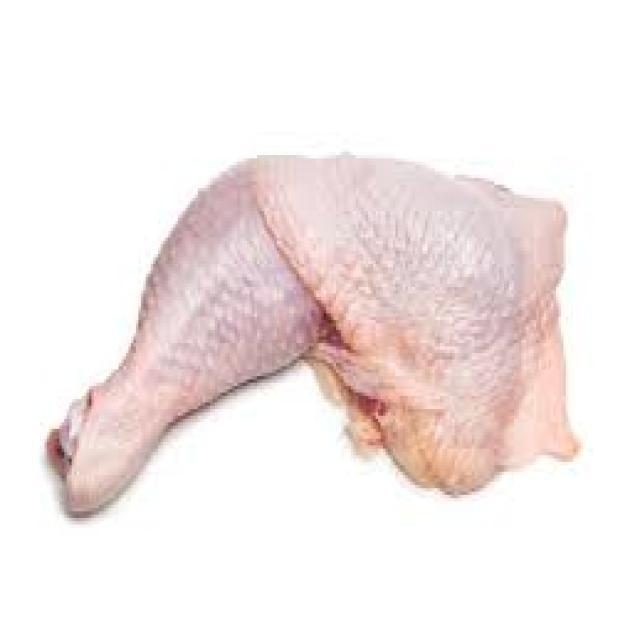quater: (24, 82, 588, 554)
